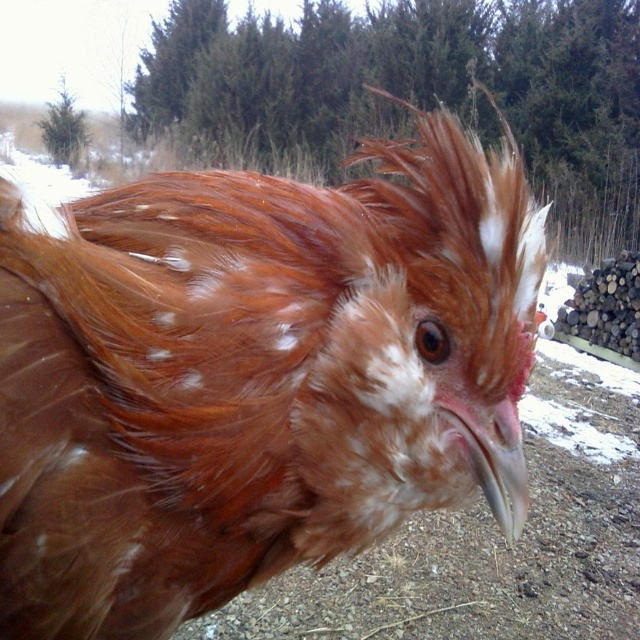Chicken: (0, 79, 554, 640)
